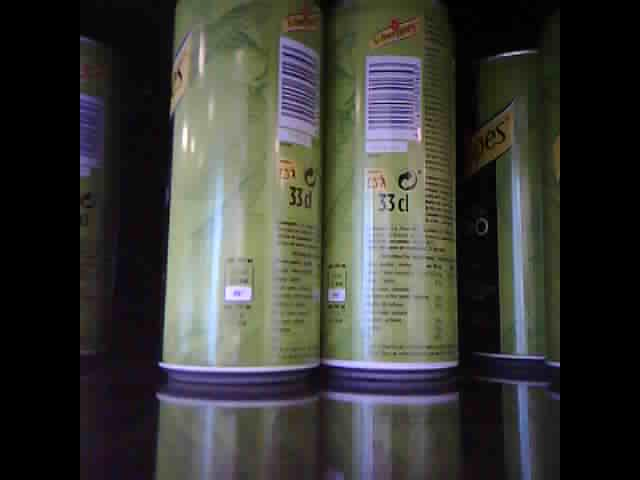schweppes: (153, 2, 323, 384), (320, 3, 462, 382), (469, 45, 565, 367), (81, 10, 122, 366)
